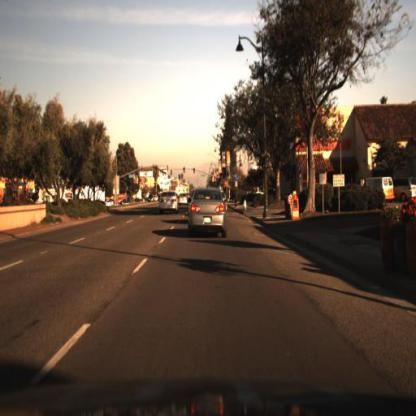car: (186, 183, 228, 237), (364, 171, 395, 202), (156, 188, 178, 215), (178, 190, 188, 212), (94, 197, 108, 209)
